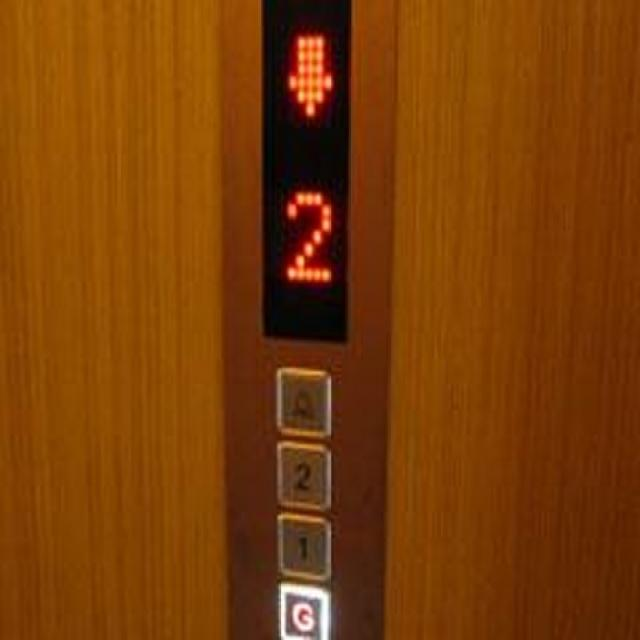1: (274, 508, 334, 581)
2: (272, 438, 332, 514)
G: (274, 578, 334, 638)
alarm: (272, 361, 334, 440)
led: (258, 0, 351, 347)
